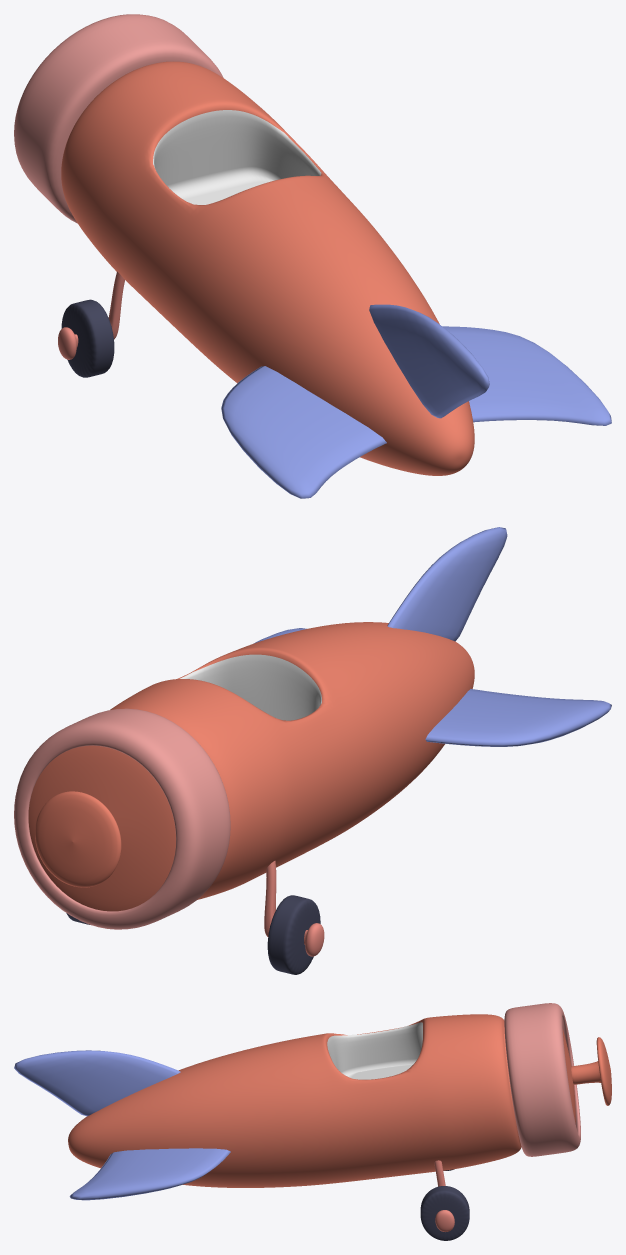
The model's file is toyPlane.fbx.
3 renders of one model, top to bottom at view 1: azimuth 30°, elevation 25°; view 2: azimuth 150°, elevation 25°; view 3: azimuth 270°, elevation 25°, orthographic. The views are drawn at different scales.
Parts seen in each view (by area): view 1: body, back_wings, frontMetal, tail, wheels, wheel_support; view 2: body, frontMetal, back_wings, tail, Plane, wheels, wheel_support; view 3: body, frontMetal, tail, back_wings, wheels, Plane, wheel_support.
Part boxes in pixels (x1,y1,x2,y2): body: (61, 61, 474, 475); back_wings: (221, 326, 611, 498); frontMetal: (14, 14, 223, 223); tail: (369, 304, 489, 418); wheels: (61, 299, 114, 377); wheel_support: (58, 271, 124, 359); body: (28, 622, 474, 911); frontMetal: (14, 708, 230, 929); back_wings: (253, 628, 611, 746); tail: (387, 527, 507, 641); Plane: (35, 791, 121, 887); wheels: (66, 895, 320, 974); wheel_support: (264, 860, 324, 956); body: (68, 1014, 575, 1187); frontMetal: (504, 1003, 580, 1156); tail: (14, 1050, 180, 1116); back_wings: (69, 1148, 230, 1200); wheels: (420, 1169, 469, 1240); Plane: (571, 1037, 611, 1105); wheel_support: (434, 1160, 454, 1231).
Size of the model in its own units: 0.8135 by 0.6547 by 1.83.
